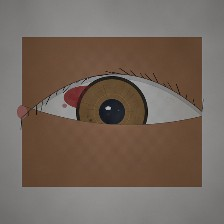hemorrhage_spot: (55, 72, 118, 123)
